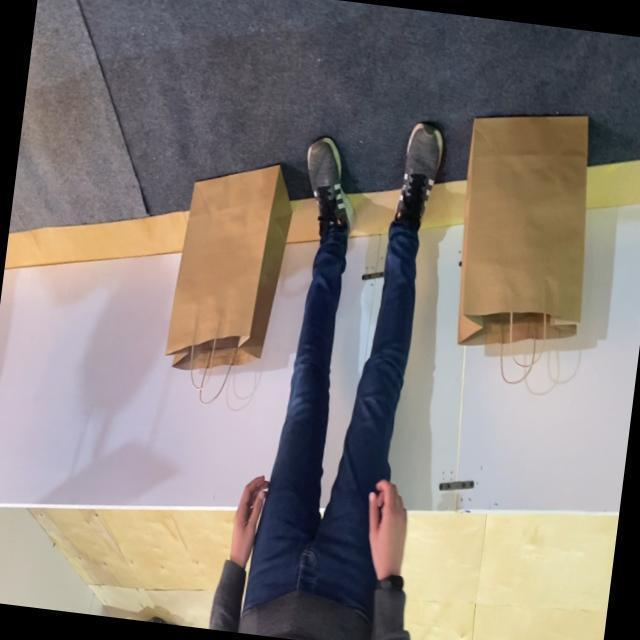Paper_Bag: (442, 101, 605, 392), (159, 154, 298, 412)
